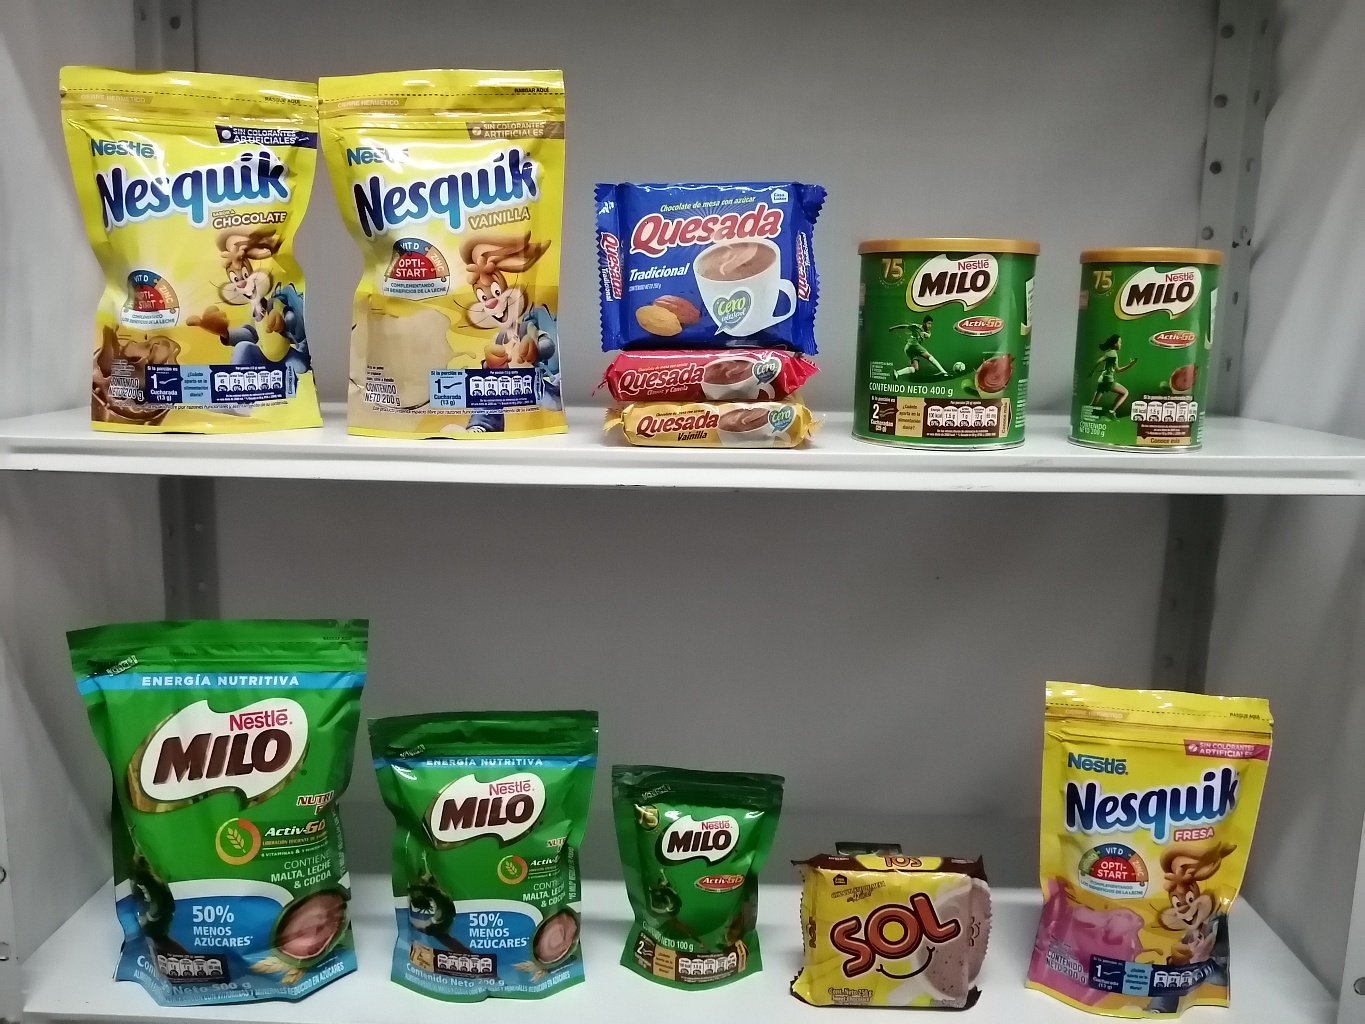COL0170203DYP10000: (599, 759, 784, 989)
COL0170203LAT20000: (1057, 239, 1239, 455)
COL0170203LAT40000: (849, 226, 1051, 464)
COL0170205DYP20000: (366, 702, 608, 1009)
COL0170205DYP50000: (53, 607, 372, 1011)
COL0170303DYP20000: (37, 51, 335, 437)
COL0170305DYP20000: (1028, 664, 1282, 1022)
COL0170306DYP20000: (311, 62, 580, 441)
